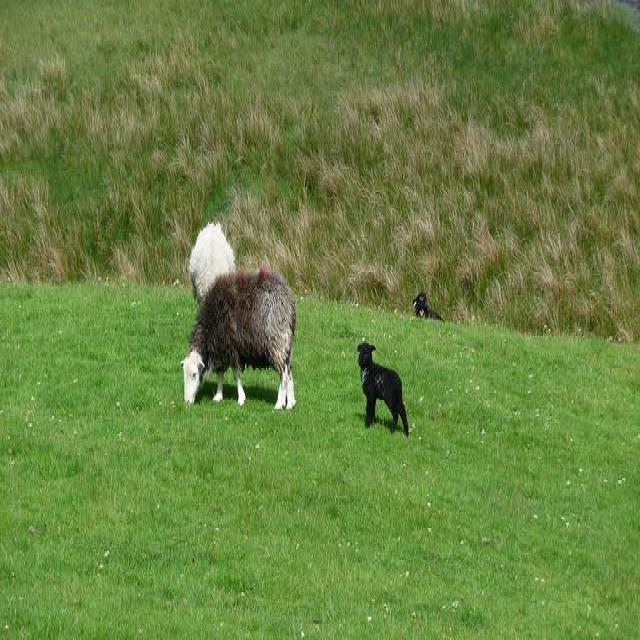Sheep: (182, 270, 297, 412), (357, 343, 410, 437), (189, 220, 235, 310)
